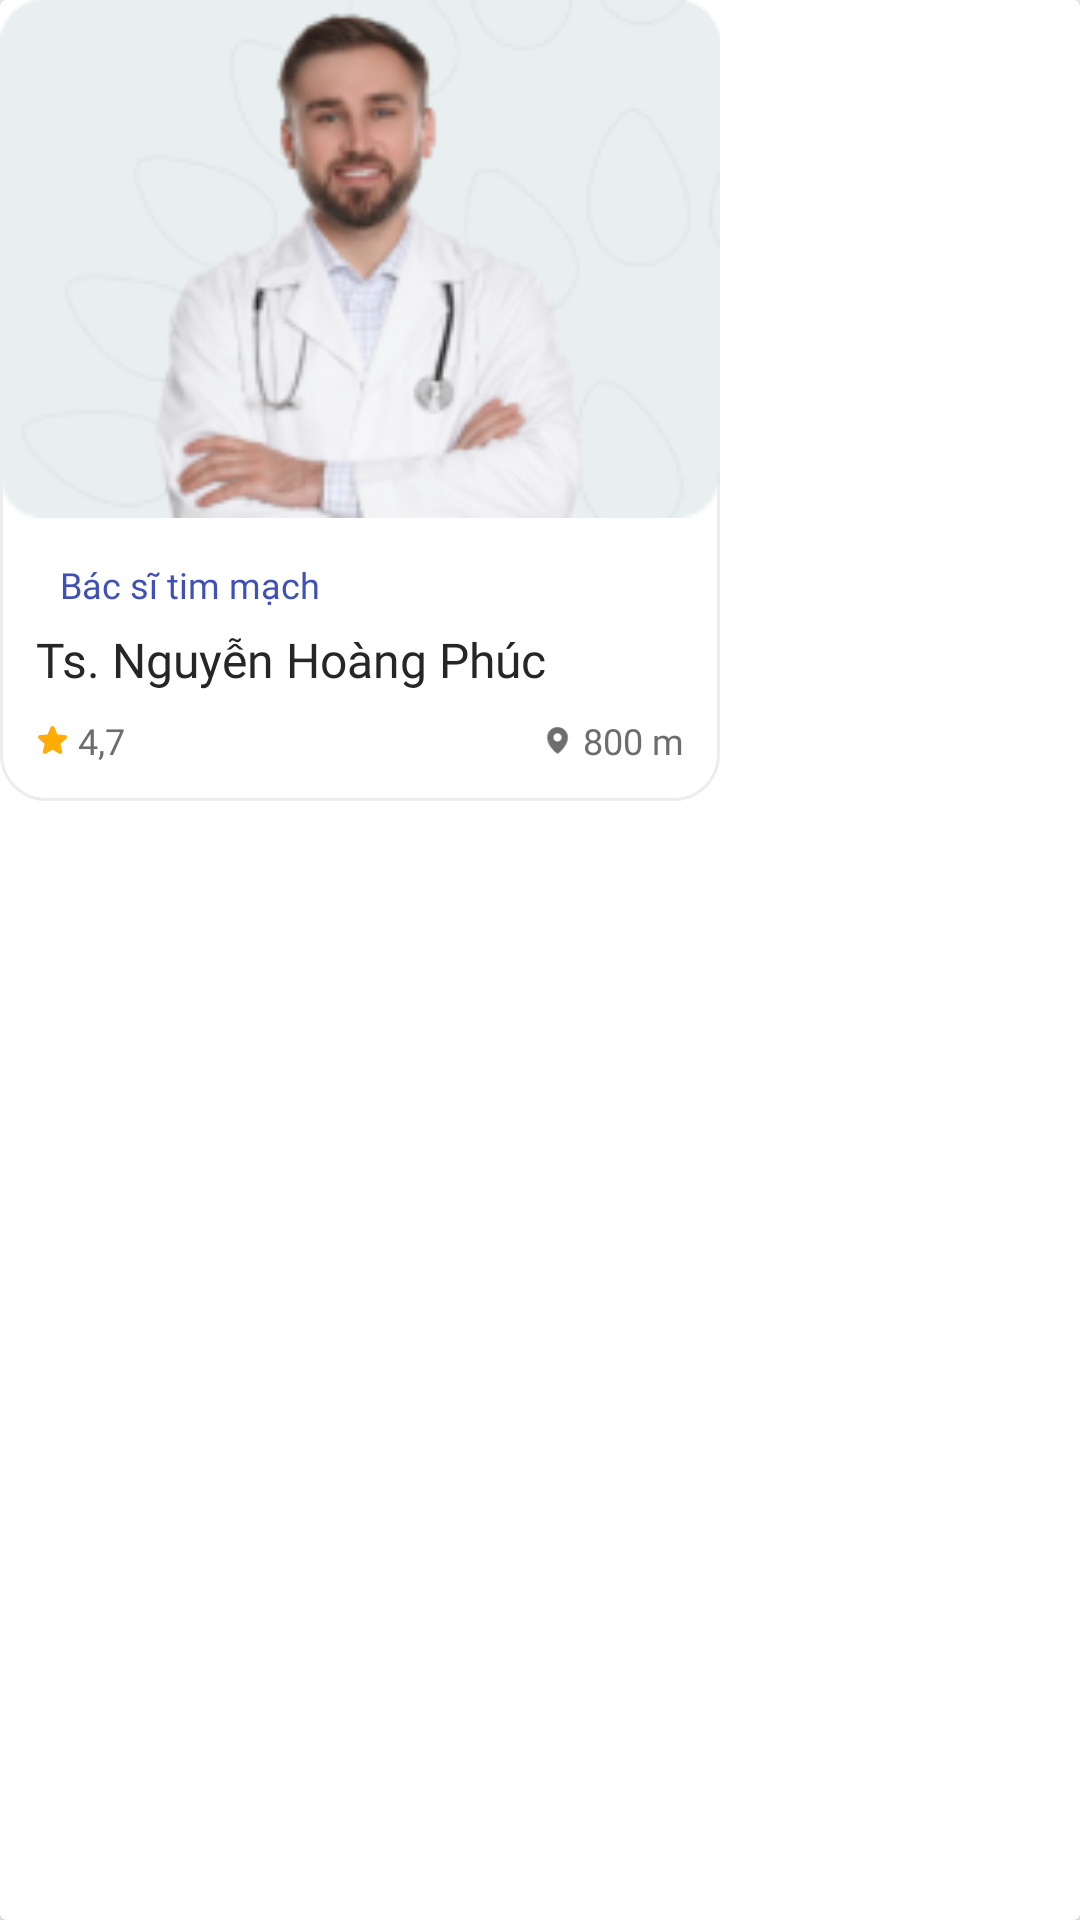

Point at icon controls on the screen. Image size 1080×1920, points as [x,y].
pin: [557,740]
star: [52,740]
